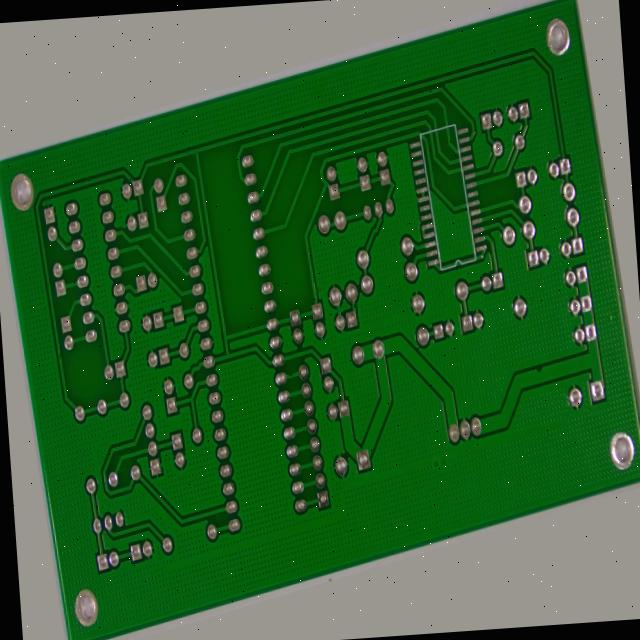mouse_bite: (543, 437, 556, 455), (278, 369, 288, 385)
